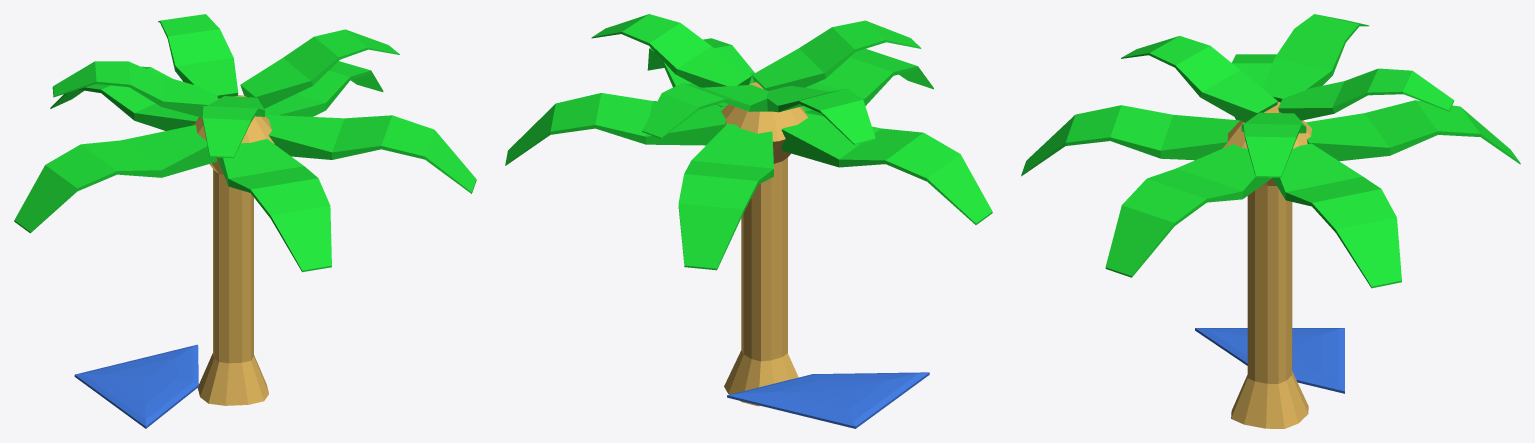
Rendered from palmTreeAndWater.fbx.
3 views of the same model, side by side, from view 1: azimuth 30°, elevation 25°; view 2: azimuth 150°, elevation 25°; view 3: azimuth 270°, elevation 25° (orthographic). The views are drawn at different scales.
Parts seen in each view (by area): view 1: Cube.001, Cube.002, Cube.004, Cube.010, Cube, Cube.007, Cube.009, Cube.003, Cube.005, Cube.006, Cube.008; view 2: Cube.001, Cube.008, Cube.002, Cube, Cube.006, Cube.007, Cube.005, Cube.009, Cube.003, Cube.004, Cube.010; view 3: Cube.001, Cube.006, Cube.010, Cube.004, Cube.008, Cube.005, Cube.003, Cube.009, Cube, Cube.007, Cube.002.
Part boxes in pixels (x1=…): Cube.001: x1=192, y1=95, x2=274, y2=405; Cube.002: x1=14, y1=125, x2=216, y2=233; Cube.004: x1=218, y1=139, x2=331, y2=272; Cube.010: x1=267, y1=115, x2=476, y2=193; Cube: x1=74, y1=344, x2=198, y2=428; Cube.007: x1=240, y1=29, x2=399, y2=108; Cube.009: x1=158, y1=14, x2=238, y2=98; Cube.003: x1=52, y1=61, x2=217, y2=117; Cube.005: x1=202, y1=96, x2=264, y2=158; Cube.006: x1=264, y1=61, x2=383, y2=117; Cube.008: x1=50, y1=66, x2=198, y2=130; Cube.001: x1=721, y1=82, x2=807, y2=406; Cube.008: x1=678, y1=123, x2=773, y2=270; Cube.002: x1=781, y1=112, x2=992, y2=224; Cube: x1=727, y1=372, x2=929, y2=428; Cube.006: x1=505, y1=93, x2=727, y2=165; Cube.007: x1=591, y1=14, x2=751, y2=87; Cube.005: x1=752, y1=20, x2=921, y2=90; Cube.009: x1=642, y1=83, x2=770, y2=138; Cube.003: x1=766, y1=86, x2=875, y2=144; Cube.004: x1=801, y1=48, x2=933, y2=116; Cube.010: x1=647, y1=38, x2=754, y2=106; Cube.001: x1=1222, y1=102, x2=1311, y2=428; Cube.006: x1=1272, y1=143, x2=1401, y2=288; Cube.010: x1=1105, y1=144, x2=1271, y2=277; Cube.004: x1=1021, y1=105, x2=1239, y2=176; Cube.008: x1=1306, y1=100, x2=1520, y2=164; Cube.005: x1=1121, y1=36, x2=1277, y2=122; Cube.003: x1=1262, y1=14, x2=1368, y2=102; Cube.009: x1=1278, y1=68, x2=1453, y2=120; Cube: x1=1195, y1=328, x2=1344, y2=393; Cube.007: x1=1241, y1=112, x2=1306, y2=177; Cube.002: x1=1231, y1=54, x2=1276, y2=120.
Size of the model in its own units: 663 by 498 by 665.
